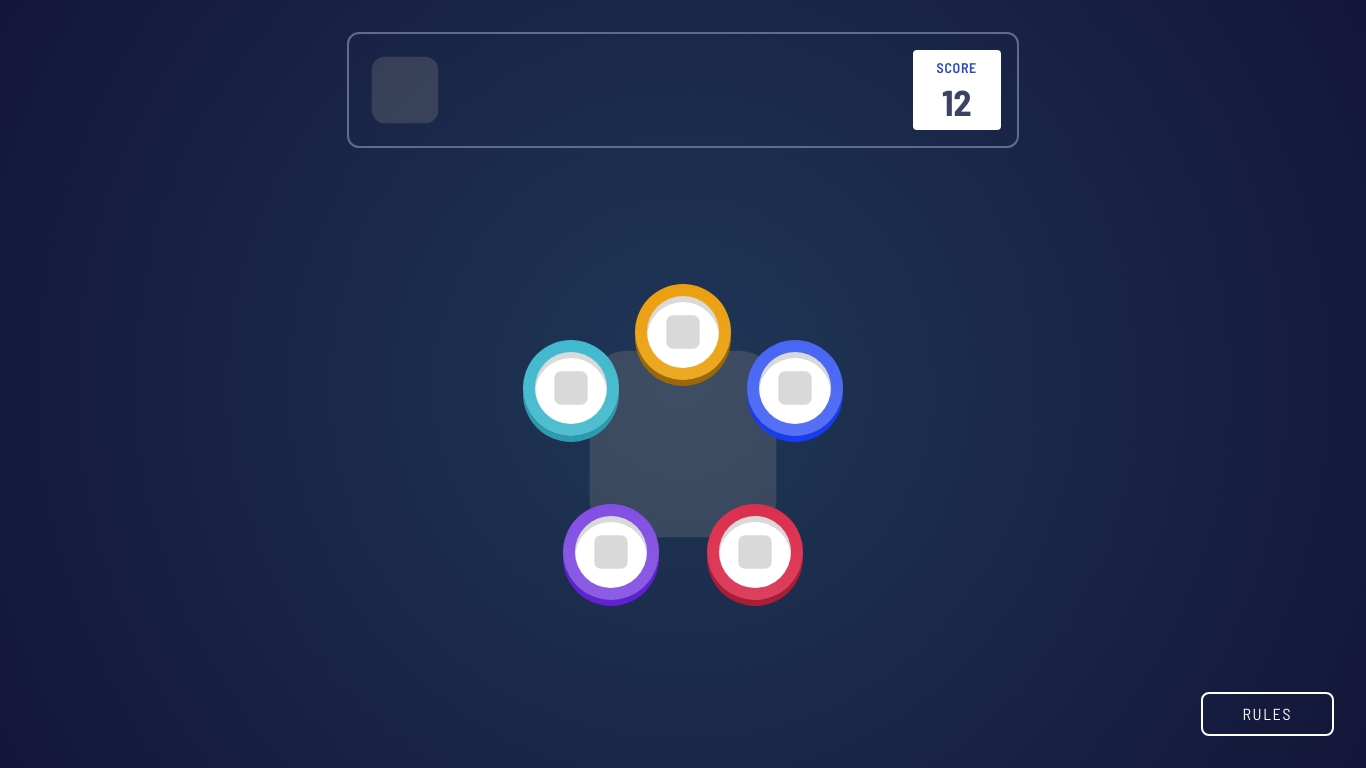
Test case: Game Winning Logic › Rock beats Lizard
What coordinates should you click on to do the following:
click the button named "Select rock"
I would click on:
 (755, 552)
Its box is [707,504,803,600].
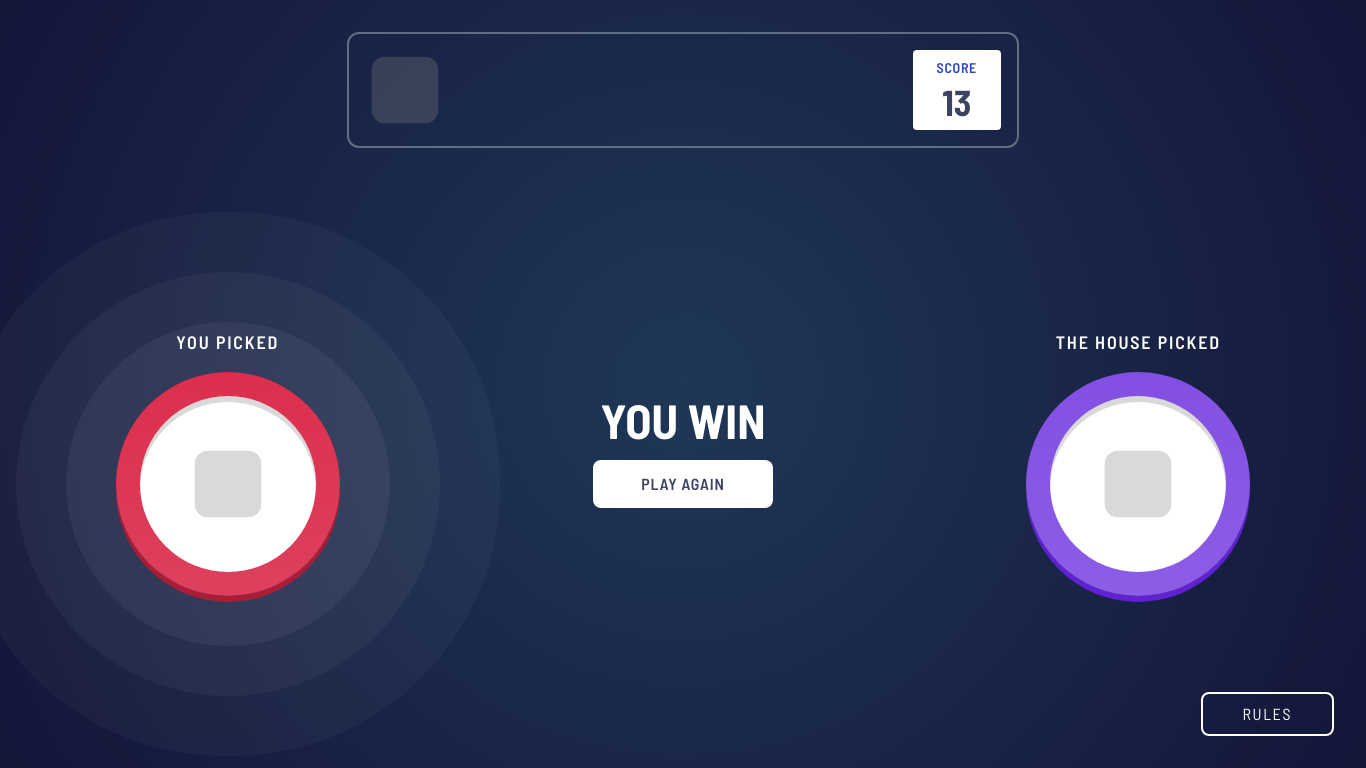
Expected: the text "You Picked" is shown, [176,328,279,356]
Expected: the text "The House Picked" is shown, [1056,328,1221,356]
